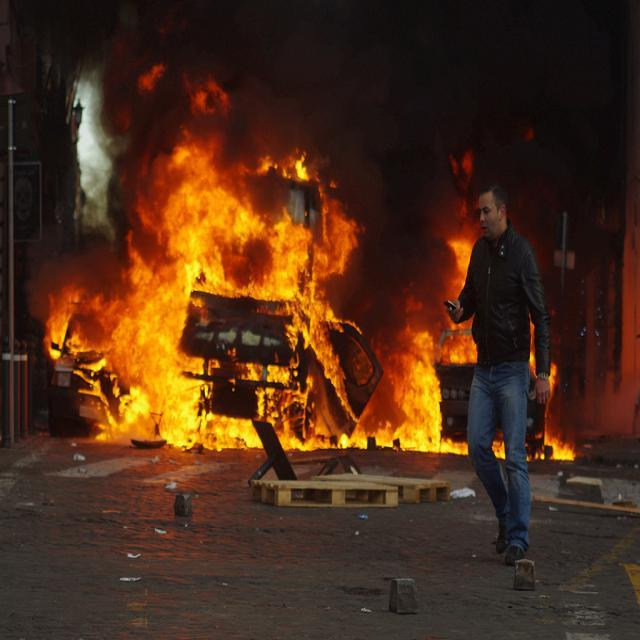Fire: (153, 183, 305, 300), (82, 300, 212, 434), (388, 334, 440, 442)
